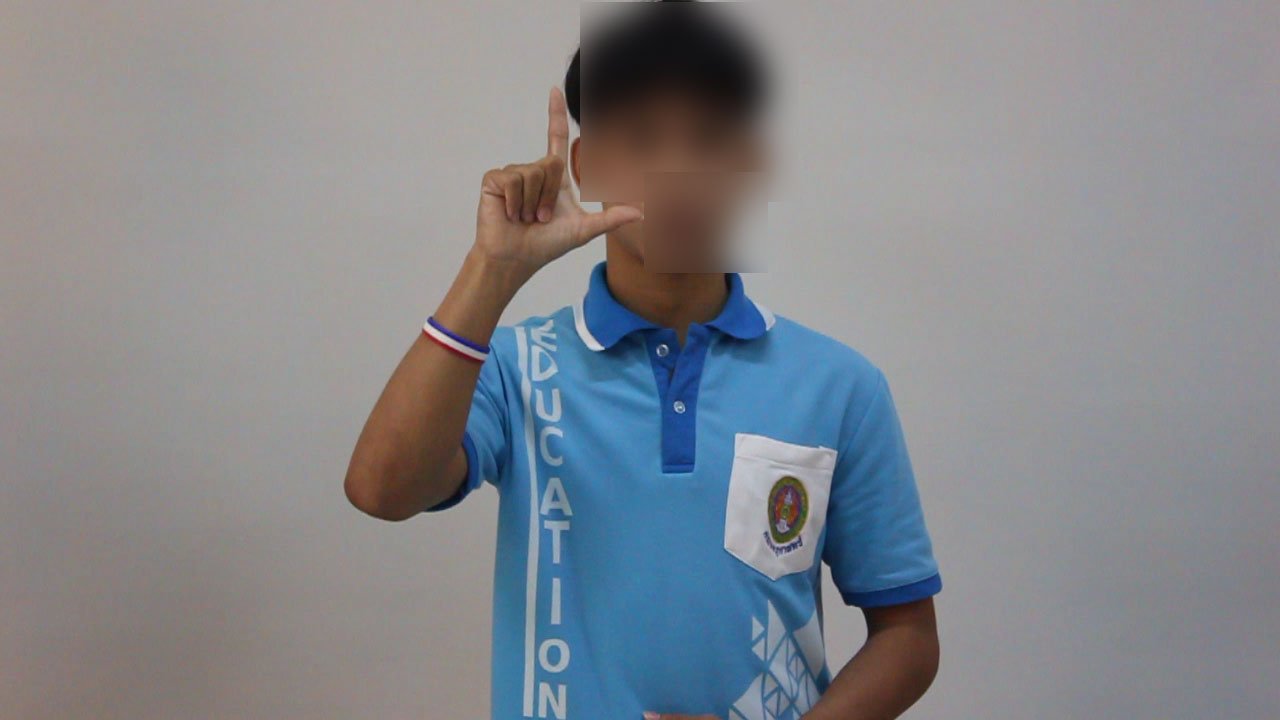lor: (463, 66, 675, 304)
